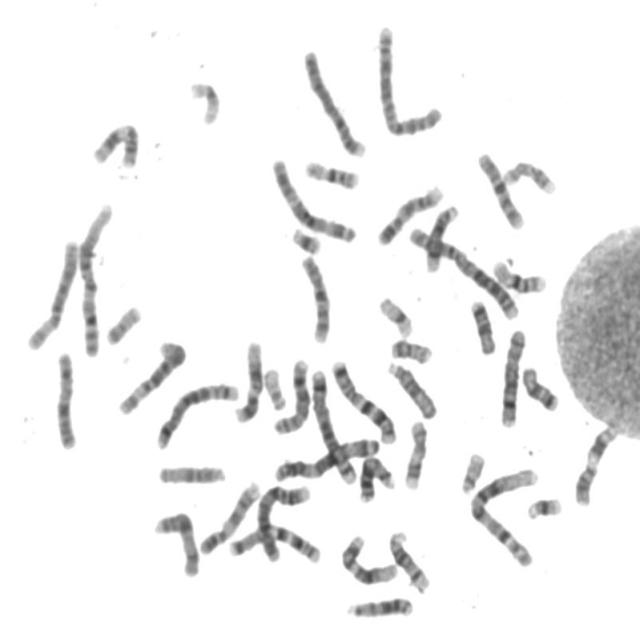A1: (465, 460, 542, 569), (74, 197, 115, 358)
A2: (403, 219, 521, 321), (372, 18, 445, 138)
A3: (265, 150, 359, 246), (269, 431, 383, 482)
B4: (297, 42, 369, 159), (250, 476, 313, 564)
B5: (151, 375, 241, 451), (305, 360, 359, 486)
C10: (473, 144, 526, 231), (296, 246, 333, 345)
C11: (568, 417, 620, 508), (86, 116, 141, 169)
C12: (336, 528, 400, 587), (228, 333, 265, 425)
C6: (22, 232, 81, 352), (113, 333, 189, 417)
C7: (326, 353, 399, 445), (223, 516, 324, 565)
C8: (494, 321, 530, 429), (268, 351, 312, 436)
C9: (193, 474, 262, 557), (372, 178, 446, 246)
D13: (354, 448, 397, 504), (340, 590, 415, 620)
D14: (384, 524, 432, 596), (421, 197, 462, 273)
D15: (382, 354, 439, 420), (153, 457, 228, 487)
E16: (488, 252, 549, 295), (299, 152, 361, 190)
E17: (498, 153, 558, 197), (398, 412, 429, 492)
E18: (516, 359, 562, 413), (465, 292, 498, 355)
F19: (373, 289, 415, 339), (183, 74, 222, 127)
F20: (100, 298, 144, 347), (385, 331, 435, 365)
G21: (286, 220, 324, 256), (521, 490, 565, 521)
G22: (455, 445, 488, 495), (258, 360, 289, 412)
X: (148, 504, 202, 579), (50, 344, 79, 452)
